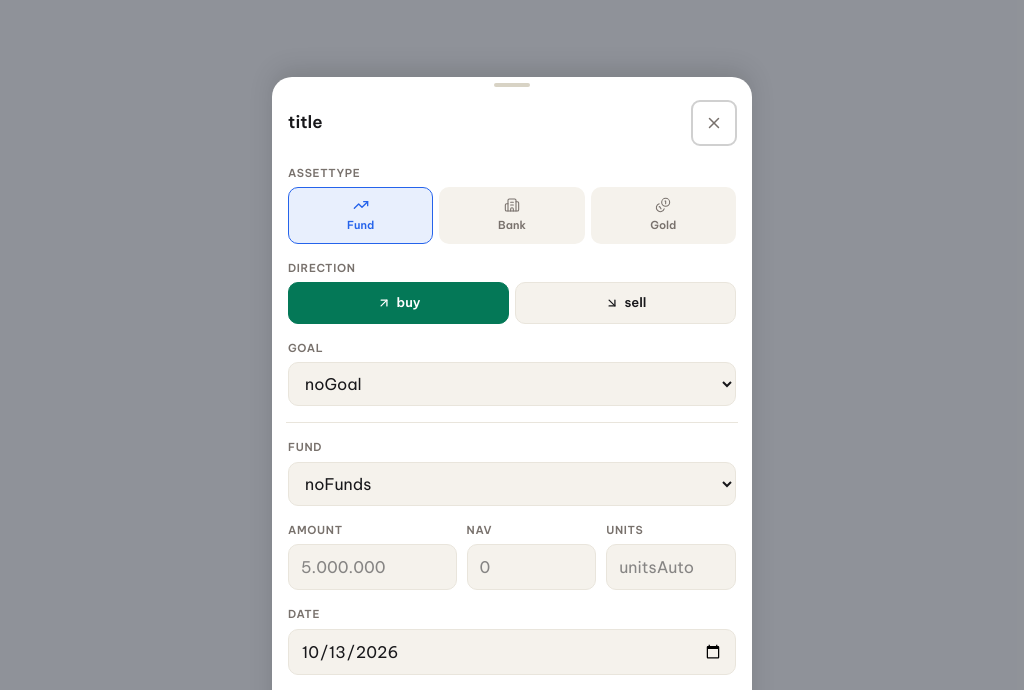
Test: AddTransactionSheet — sell holdings load error vs empty › retry re-fetches and clears the error (genuine empty after a successful reload)
Click the button "sell" at (626, 303), box x1=515 y1=282 x2=736 y2=324
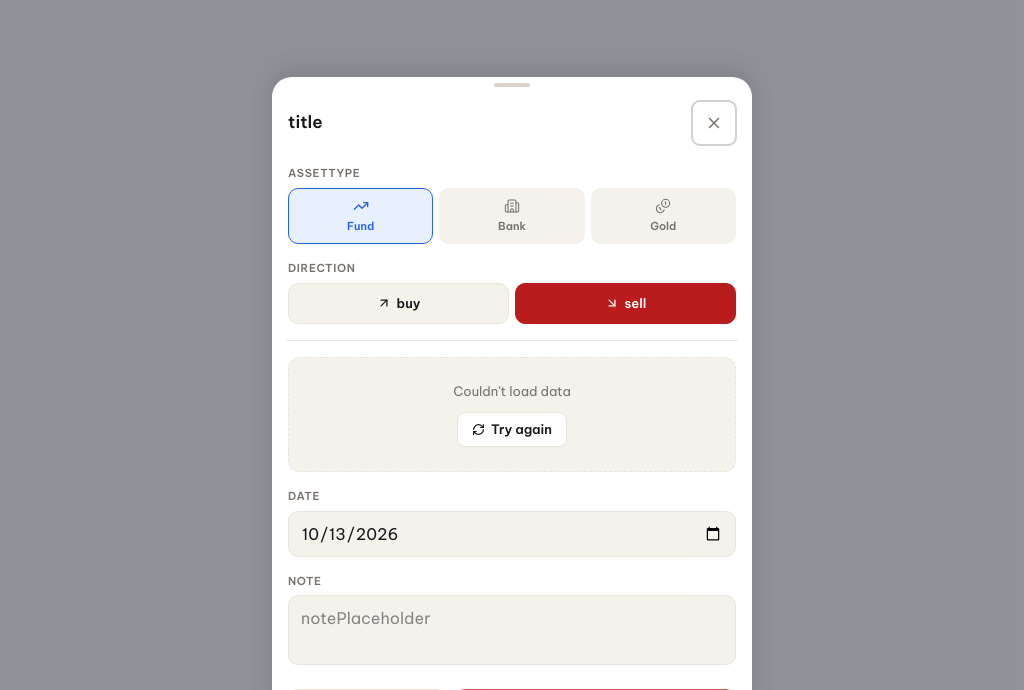
Check: the message "Couldn't load data Try again" is shown, box x1=453 y1=383 x2=571 y2=447
Click the button with test id "load-error-retry" at (512, 429), box x1=457 y1=412 x2=567 y2=447
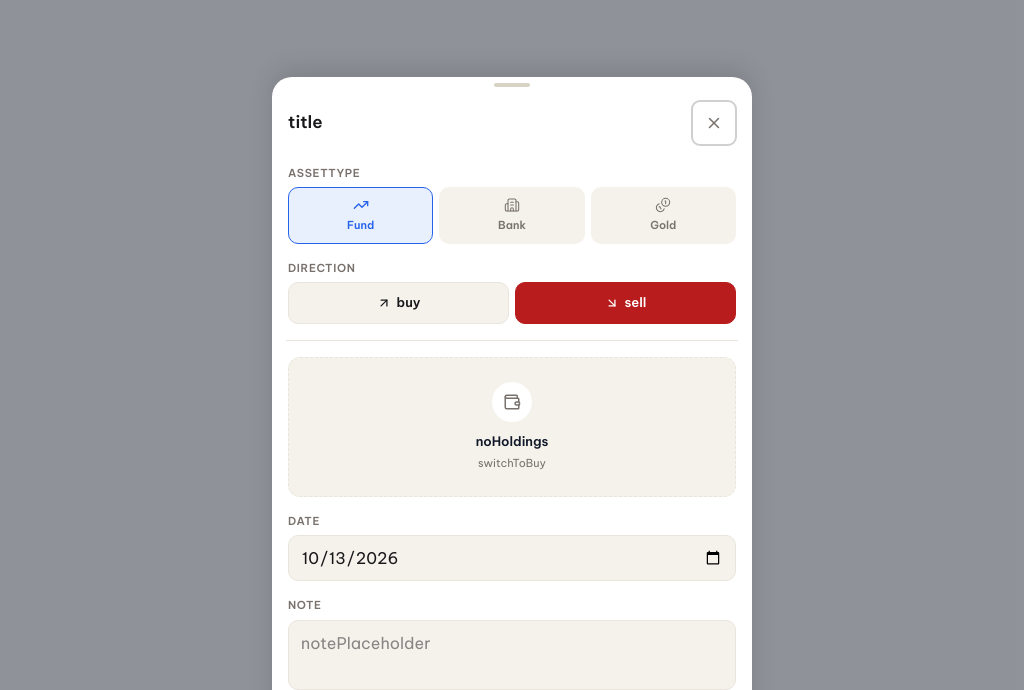
Check: the text "noHoldings" is shown, box x1=476 y1=433 x2=548 y2=449
Check: the message with test id "load-error" is gone
